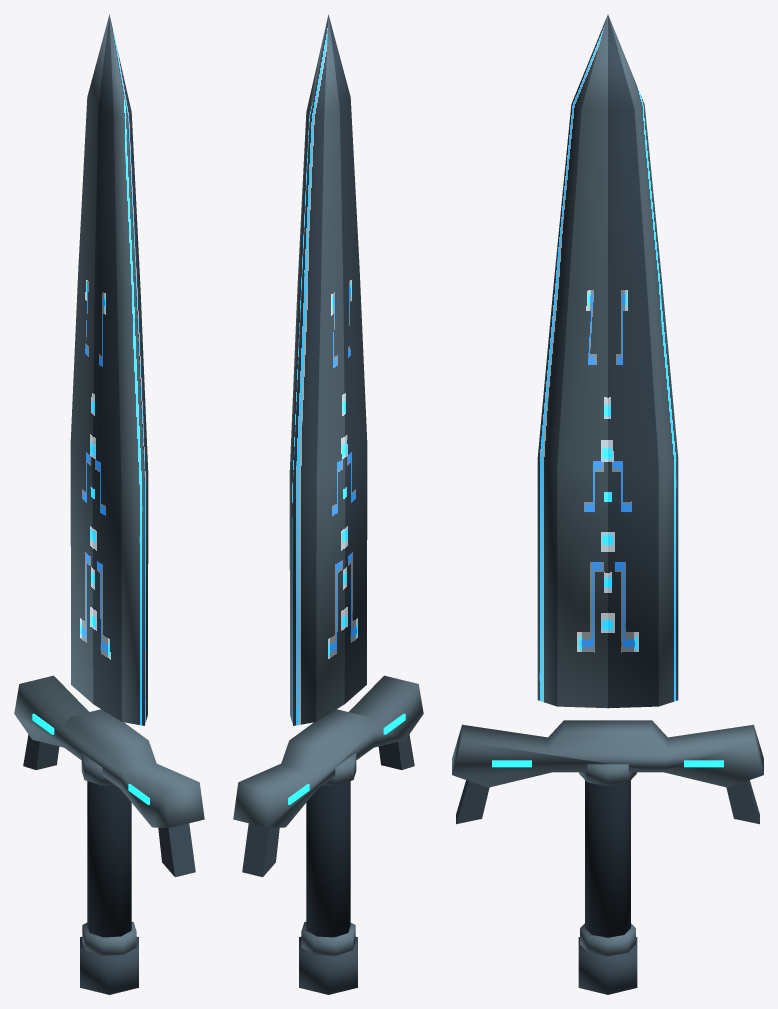
File: tampered_blade.glb
3 views of the same model, side by side, from view 1: azimuth 30°, elevation 25°; view 2: azimuth 150°, elevation 25°; view 3: azimuth 270°, elevation 25° (orthographic).
Visible parts, largest first — view 1: tampered_blade; view 2: tampered_blade; view 3: tampered_blade.
Boxes of the visible parts, box(x1,y1,x2,y2) form: tampered_blade: box(14, 14, 204, 994); tampered_blade: box(233, 14, 423, 994); tampered_blade: box(452, 14, 763, 994).
Size of the model in its own units: 0.0625 by 0.9817 by 0.287.
